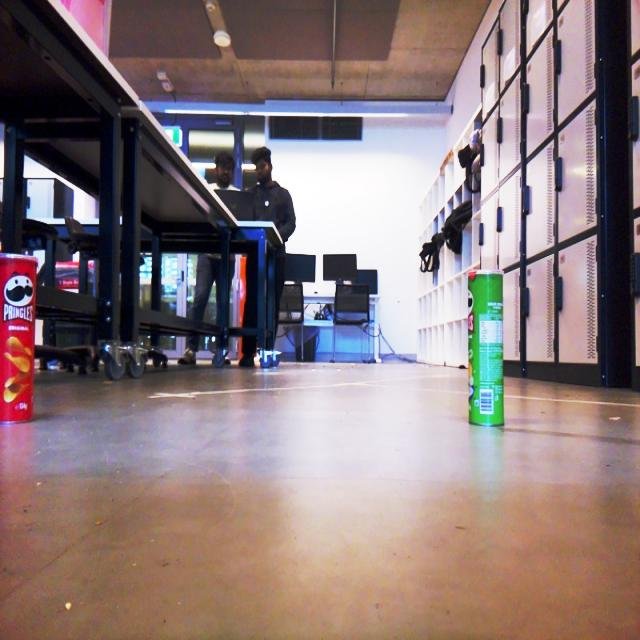greenpringles: (457, 261, 522, 435)
redpringles: (0, 238, 51, 433)
